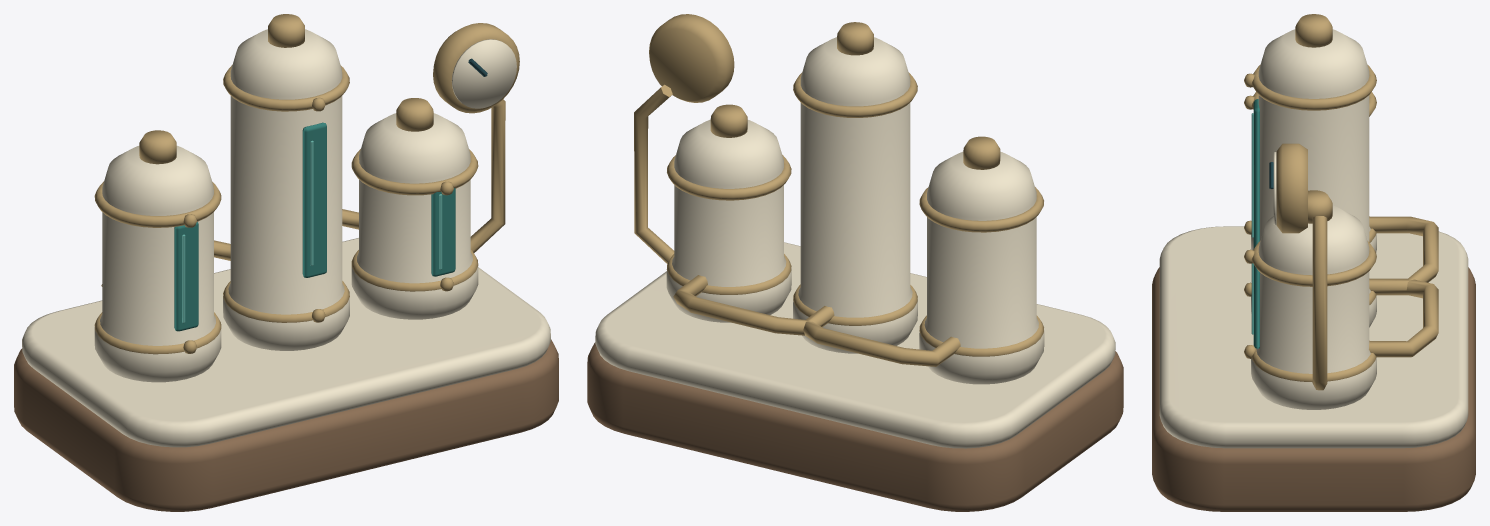
The model's file is porcelain_capacitor_station_atelier.glb.
The picture shows the model from 3 angles, left to right: view 1: azimuth 30°, elevation 25°; view 2: azimuth 150°, elevation 25°; view 3: azimuth 270°, elevation 25°; orthographic projection.
Parts seen in each view (by area): view 1: porcelain_capacitor_station_atelier__Painted_porcelain_capac (×2), porcelain_capacitor_station_atelier__TaggedPainted_porcelain; view 2: porcelain_capacitor_station_atelier__Painted_porcelain_capac (×2), porcelain_capacitor_station_atelier__TaggedPainted_porcelain; view 3: porcelain_capacitor_station_atelier__Painted_porcelain_capac (×2), porcelain_capacitor_station_atelier__TaggedPainted_porcelain.
Part boxes in pixels (bbox=[...]): porcelain_capacitor_station_atelier__Painted_porcelain_capac (×2): bbox=[22, 14, 550, 447]; porcelain_capacitor_station_atelier__TaggedPainted_porcelain: bbox=[14, 58, 558, 511]; porcelain_capacitor_station_atelier__Painted_porcelain_capac (×2): bbox=[595, 14, 1115, 448]; porcelain_capacitor_station_atelier__TaggedPainted_porcelain: bbox=[587, 342, 1123, 511]; porcelain_capacitor_station_atelier__Painted_porcelain_capac (×2): bbox=[1159, 14, 1468, 448]; porcelain_capacitor_station_atelier__TaggedPainted_porcelain: bbox=[1152, 162, 1475, 511].
Size of the model in its own units: 1.67 by 1.44 by 1.08.
